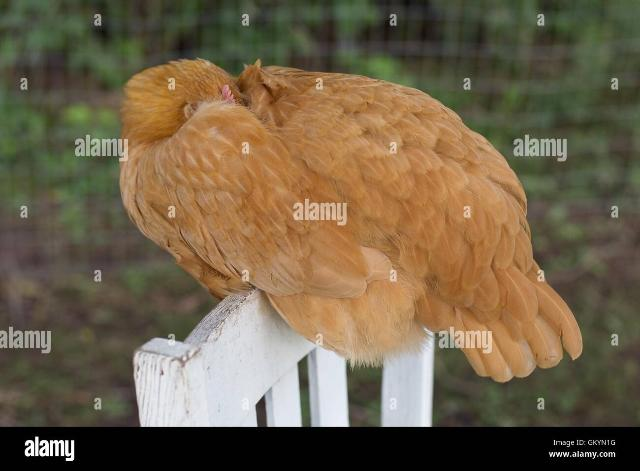Chicken: (118, 58, 582, 383)
